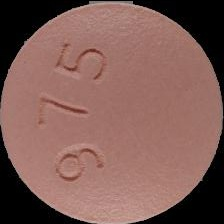43353-198: (0, 0, 224, 224)
